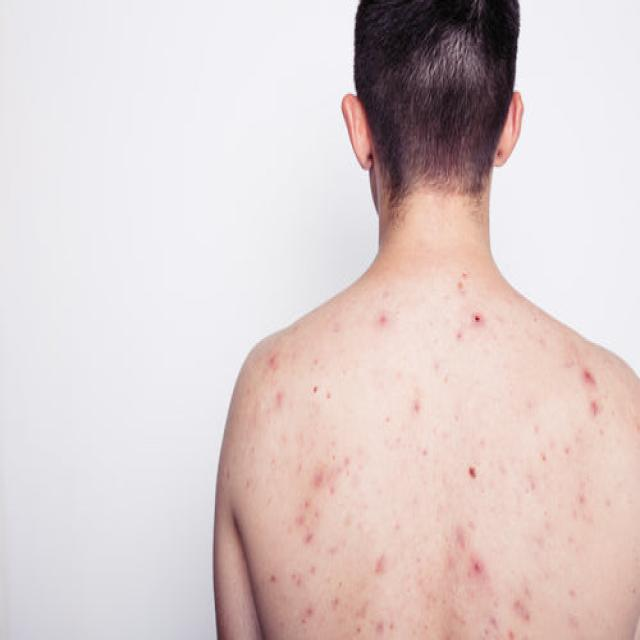Acne: (227, 237, 621, 640)
